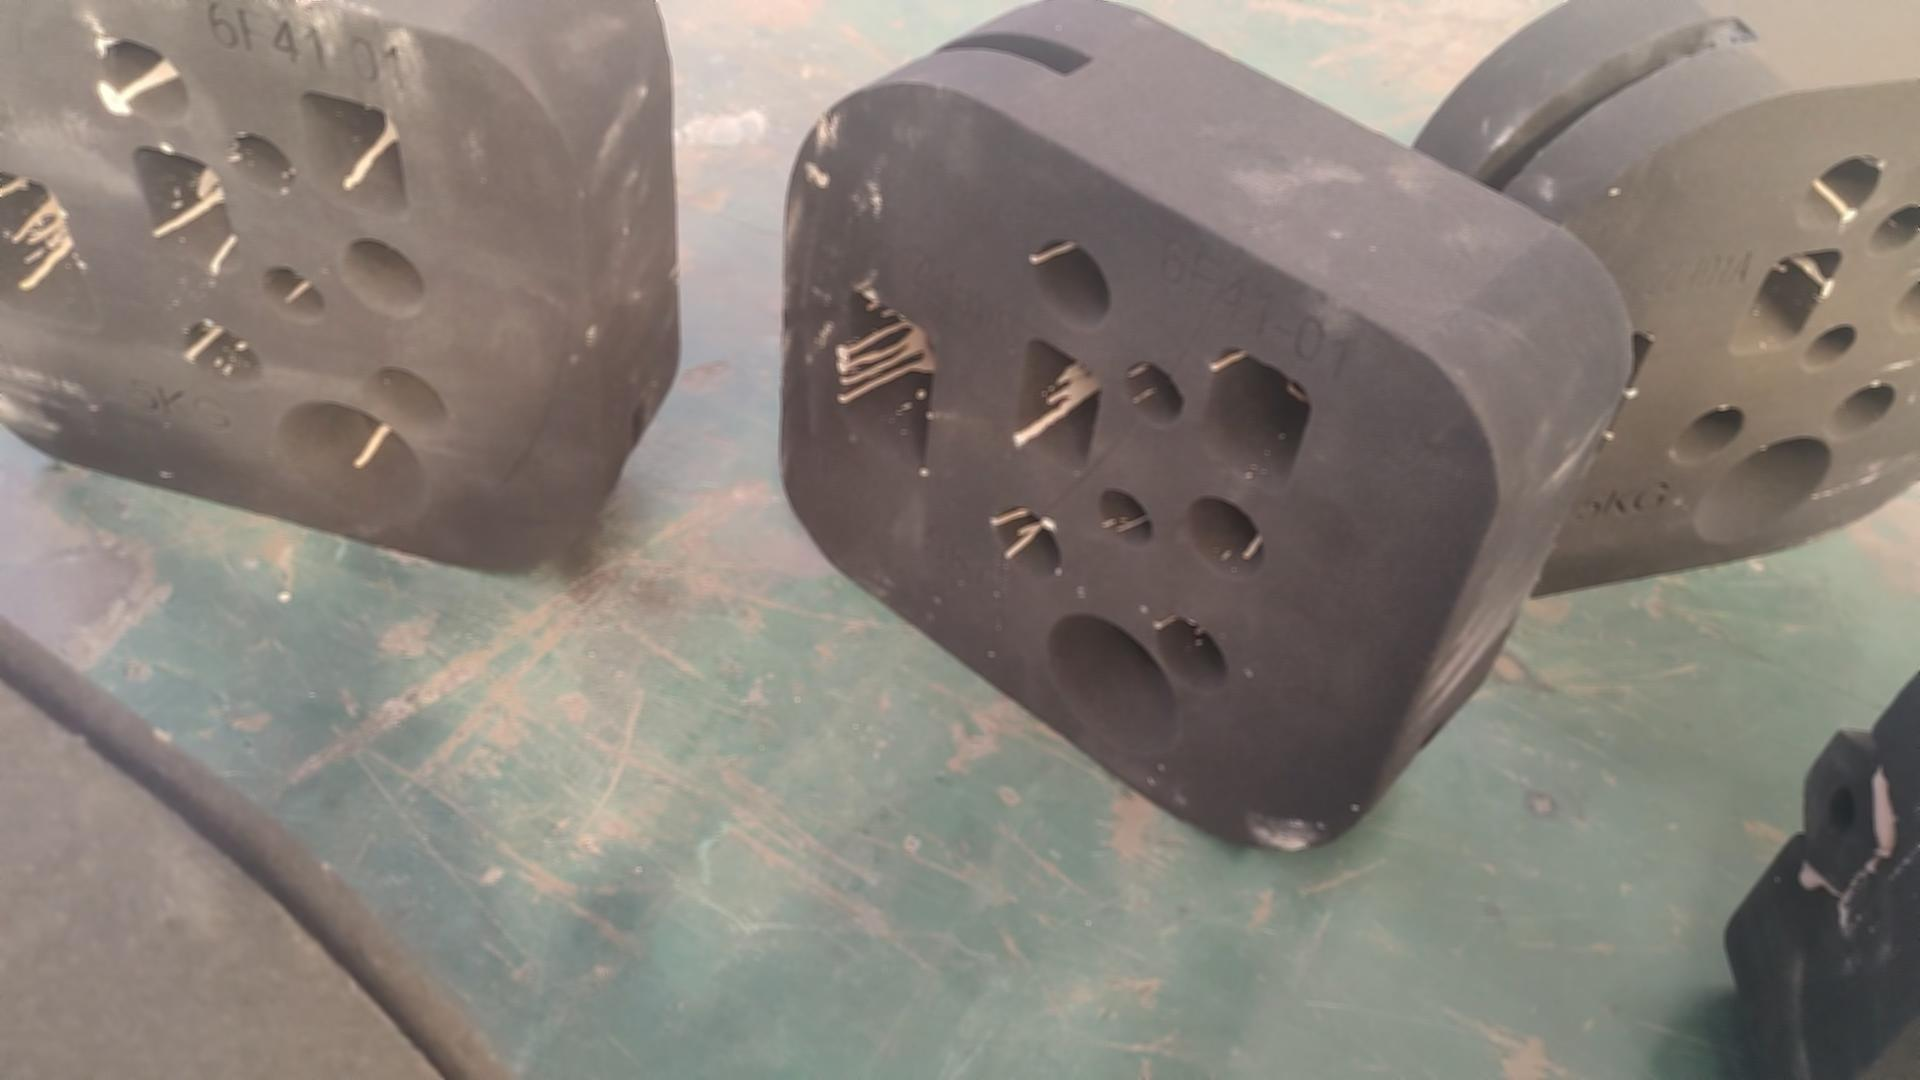pouring hole: (272, 402, 425, 531), (1048, 613, 1179, 753), (1691, 436, 1833, 545)
